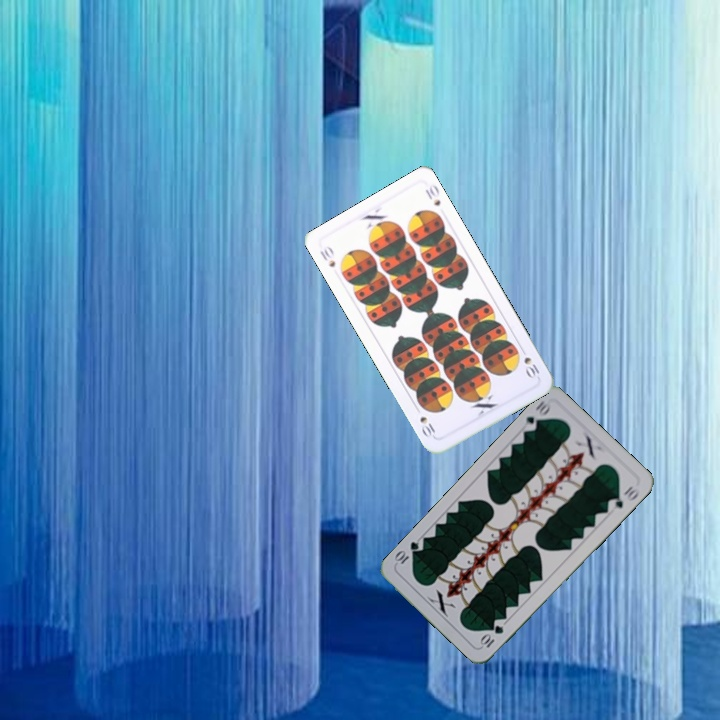G10: (519, 396, 553, 434), (476, 621, 506, 650)
S10: (520, 353, 542, 381), (316, 242, 338, 270)
